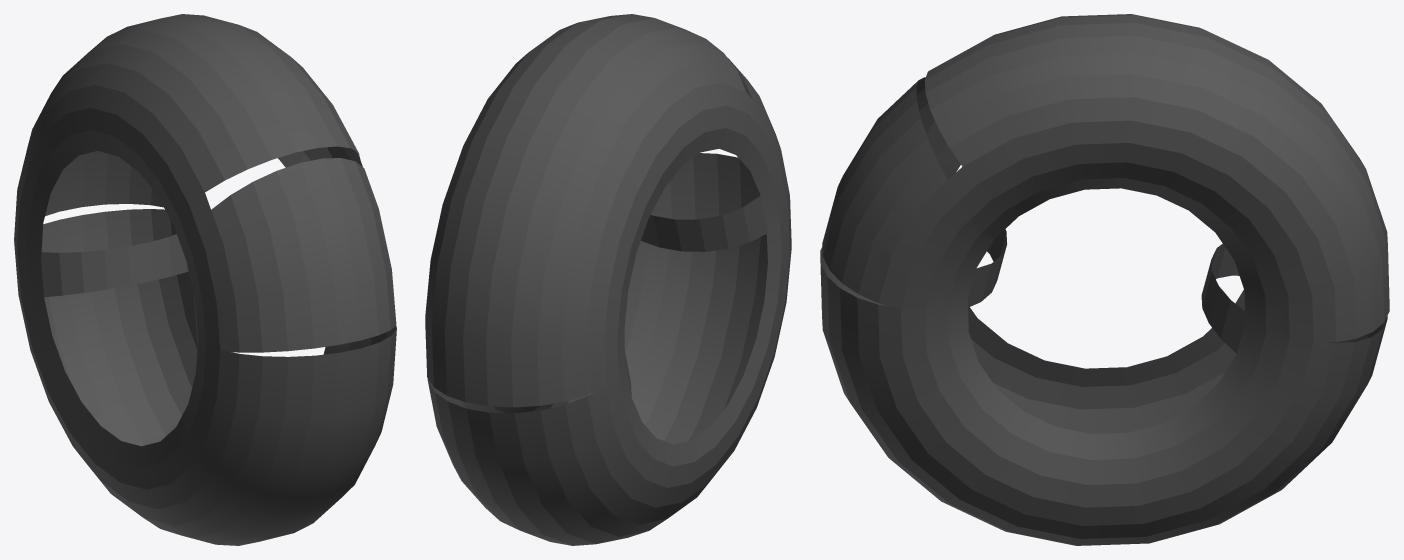
Rendered from original-3.obj.
3 renders of one model, left to right at view 1: azimuth 30°, elevation 25°; view 2: azimuth 150°, elevation 25°; view 3: azimuth 270°, elevation 25°, orthographic. The views are drawn at different scales.
Visible parts, largest first — view 1: 3dw.e2c049a1e7b7004bf44a292ef014253/Model/mesh1/mesh1-geometry/m; view 2: 3dw.e2c049a1e7b7004bf44a292ef014253/Model/mesh1/mesh1-geometry/m; view 3: 3dw.e2c049a1e7b7004bf44a292ef014253/Model/mesh1/mesh1-geometry/m.
Boxes of the visible parts, x1,y1,x2,y2 form: 3dw.e2c049a1e7b7004bf44a292ef014253/Model/mesh1/mesh1-geometry/m: (14,14,396,545); 3dw.e2c049a1e7b7004bf44a292ef014253/Model/mesh1/mesh1-geometry/m: (425,14,791,545); 3dw.e2c049a1e7b7004bf44a292ef014253/Model/mesh1/mesh1-geometry/m: (820,14,1389,545).
Bounding box in the file's own units: 0.0189 × 0.0458 × 0.0458.
